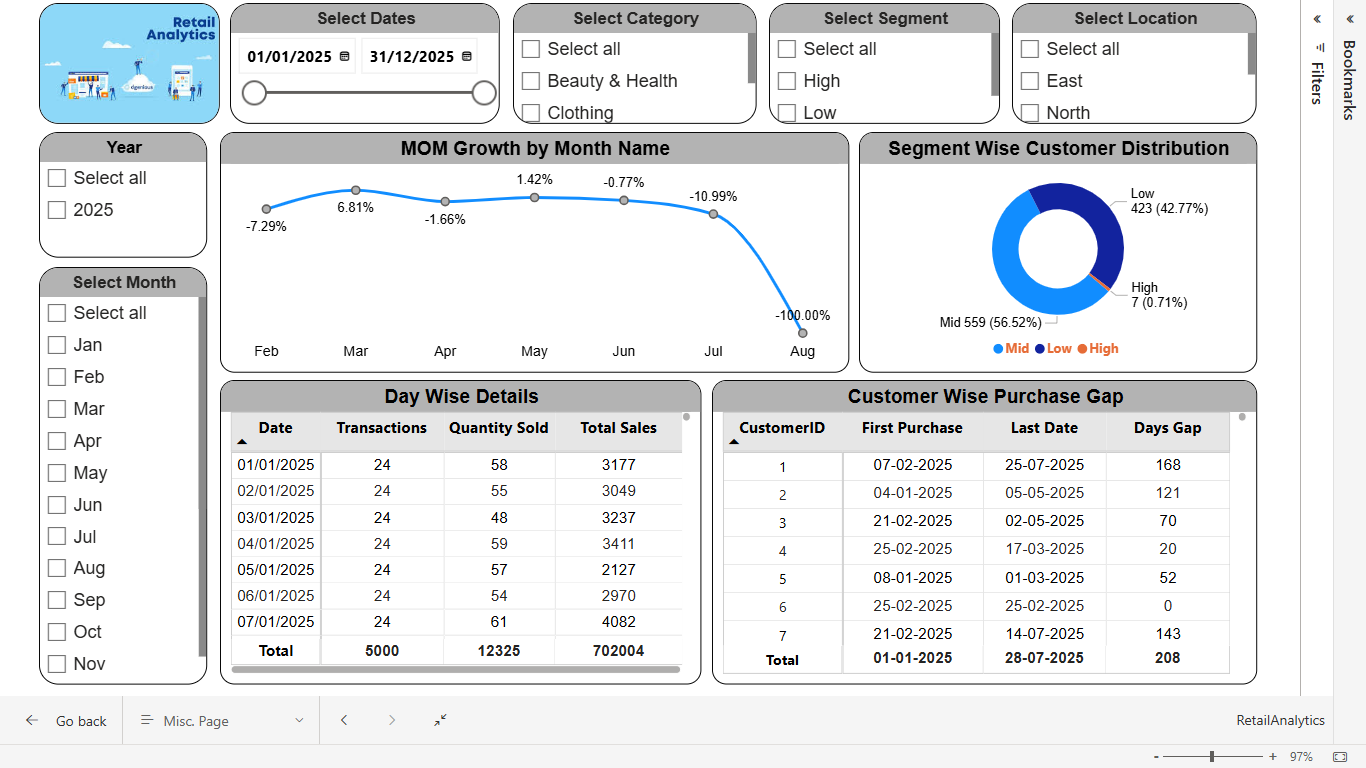

The page's visual inventory and layout, read from the dashboard file:
{"tool":"powerbi","page":{"name":"Misc. Page","canvas":[1280,720],"ordinal":2},"visuals":[{"type":"pivotTable","title":"Day Wise Details","fields":{"Rows":["Calendar.Date"],"Values":["All Measures.Transactions","All Measures.Quantity Sold","All Measures.Total Sales"]},"box":[195.8,393.1,498.2,315.4],"z":0},{"type":"lineChart","fields":{"Category":["Calendar.Month Name"],"Y":["All Measures.MOM Growth"]},"box":[195.8,136.8,650.9,249.1],"z":1000},{"type":"pivotTable","title":"Customer Wise Purchase Gap","fields":{"Rows":["Customers.CustomerID"],"Values":["All Measures.First Purchase Date","All Measures.Last Purchase Date","All Measures.Days Between Purchase"]},"box":[704.2,393.1,564.5,315.4],"z":2000},{"type":"donutChart","title":"Segment Wise Customer Distribution","fields":{"Category":["Customer_Segment.Customer_Segment"],"Y":["CountNonNull(Customer_Segment.CustomerID)"]},"box":[856.8,136.8,411.8,249.1],"z":3000},{"type":"image","box":[8.6,2.9,187.2,125.3],"z":3001},{"type":"slicer","title":"Select Dates","fields":{"Values":["Calendar.Date"]},"box":[205.9,2.9,279.4,125.3],"z":3002},{"type":"slicer","title":"Year","fields":{"Values":["Calendar.Year"]},"box":[8.6,136.8,174.2,129.6],"z":3003},{"type":"slicer","title":"Select Month","fields":{"Values":["Calendar.Month Name"]},"box":[8.6,276.5,174.2,432],"z":3004},{"type":"slicer","title":"Select Category","fields":{"Values":["Products.Category"]},"box":[498.2,2.9,252,125.3],"z":3005},{"type":"slicer","title":"Select Segment","fields":{"Values":["Customer_Segment.Customer_Segment"]},"box":[763.2,2.9,239,125.3],"z":3006},{"type":"slicer","title":"Select Location","fields":{"Values":["Customers.Location"]},"box":[1015.2,2.9,253.4,125.3],"z":3007}]}

Visuals, with their boxes on the page's 1280x720 design canvas (x1, y1, x2, y2). These are canvas units, not pixel positions in the 1366x768 screenshot, which may show the page scaled, cropped or inside an application window:
"Day Wise Details" pivotTable: 196 393 694 708
lineChart - Calendar.Month Name x All Measures.MOM Growth: 196 137 847 386
"Customer Wise Purchase Gap" pivotTable: 704 393 1269 708
"Segment Wise Customer Distribution" donutChart: 857 137 1269 386
image: 9 3 196 128
"Select Dates" slicer: 206 3 485 128
"Year" slicer: 9 137 183 266
"Select Month" slicer: 9 276 183 708
"Select Category" slicer: 498 3 750 128
"Select Segment" slicer: 763 3 1002 128
"Select Location" slicer: 1015 3 1269 128
